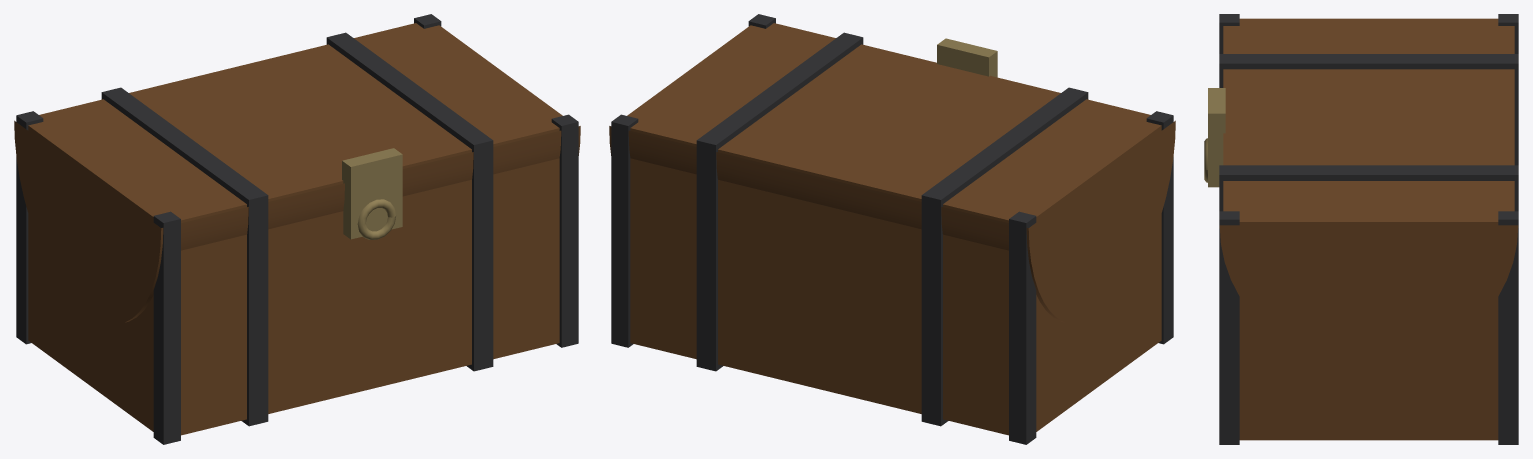
3 views of the same model, side by side, from view 1: azimuth 30°, elevation 25°; view 2: azimuth 150°, elevation 25°; view 3: azimuth 270°, elevation 25° (orthographic).
Parts seen in each view (by area): view 1: OBJ-002 — DEMO NON_VALIDE; view 2: OBJ-002 — DEMO NON_VALIDE; view 3: OBJ-002 — DEMO NON_VALIDE.
Part boxes in pixels (<box>): OBJ-002 — DEMO NON_VALIDE: <box>14,14,580,444</box>; OBJ-002 — DEMO NON_VALIDE: <box>609,14,1175,444</box>; OBJ-002 — DEMO NON_VALIDE: <box>1204,14,1518,444</box>.
Bounding box in the file's own units: 2 × 1.09 × 1.28.
